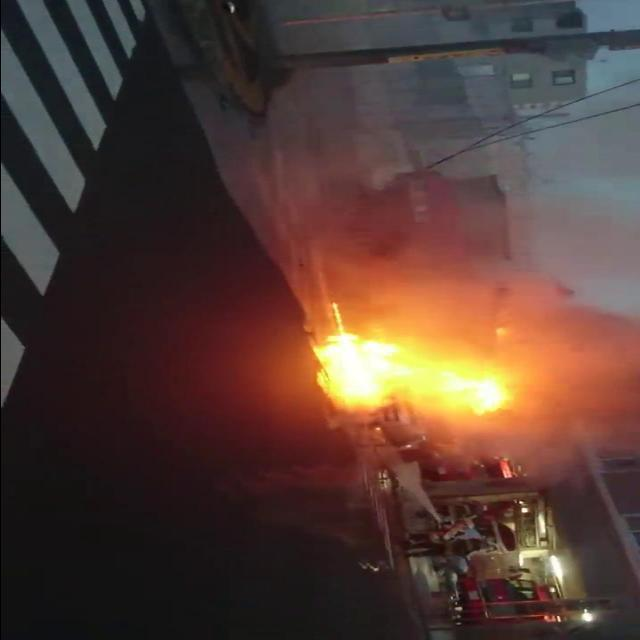Fire: (317, 303, 415, 414), (444, 370, 506, 422), (492, 327, 508, 341)
